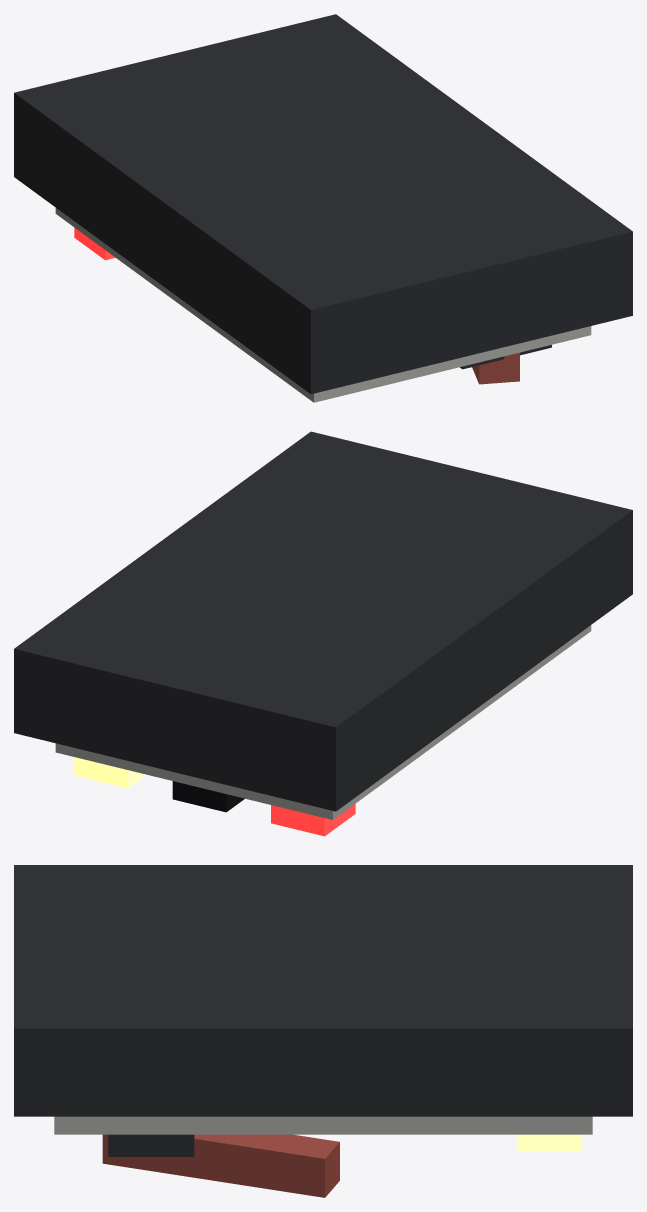
File: breaker_box.glb
3 renders of one model, top to bottom at view 1: azimuth 30°, elevation 25°; view 2: azimuth 150°, elevation 25°; view 3: azimuth 270°, elevation 25°, orthographic. The views are drawn at different scales.
Visible parts, largest first — view 1: box_back, box_door, lever; view 2: box_back, box_door, indicator_red, indicator_dead, indicator_yellow; view 3: box_back, box_door, lever, lever_base, indicator_yellow.
Boxes of the visible parts, x1,y1,x2,y2 form: box_back: (14, 14, 632, 394); box_door: (55, 208, 591, 402); lever: (472, 352, 519, 384); box_back: (14, 431, 632, 811); box_door: (55, 625, 591, 819); indicator_red: (271, 804, 355, 836); indicator_dead: (172, 781, 244, 812); indicator_yellow: (74, 757, 146, 788); box_back: (14, 865, 632, 1116); box_door: (54, 1116, 592, 1134); lever: (102, 1134, 339, 1197); lever_base: (108, 1134, 194, 1156); indicator_yellow: (517, 1134, 581, 1151).
Bounding box in the file's own units: 0.72 × 0.35 × 1.15.
